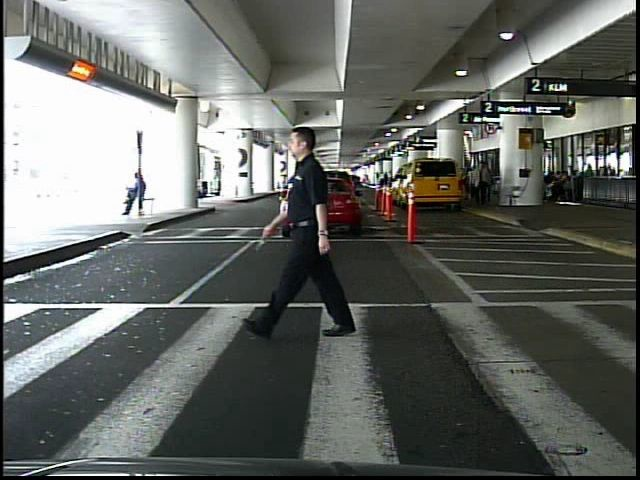person: (267, 122, 360, 344), (474, 162, 491, 208)
